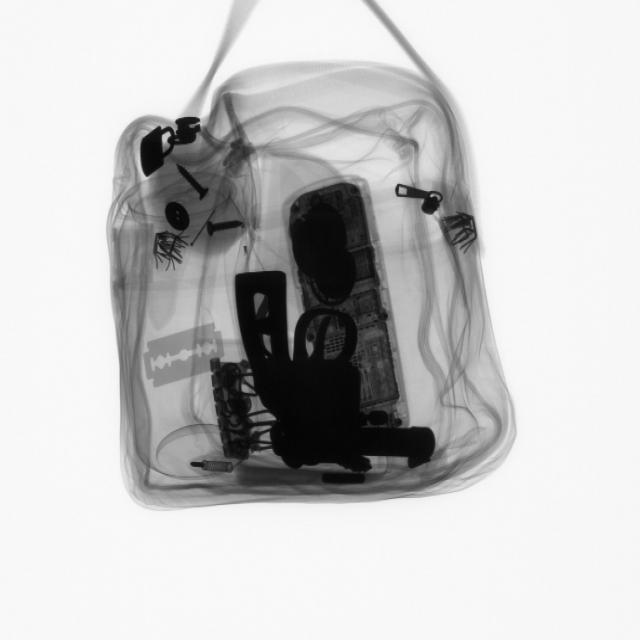BLADE: (137, 315, 228, 391)
GUN: (239, 260, 435, 478)
SCREW: (172, 164, 212, 205), (204, 215, 252, 242)
